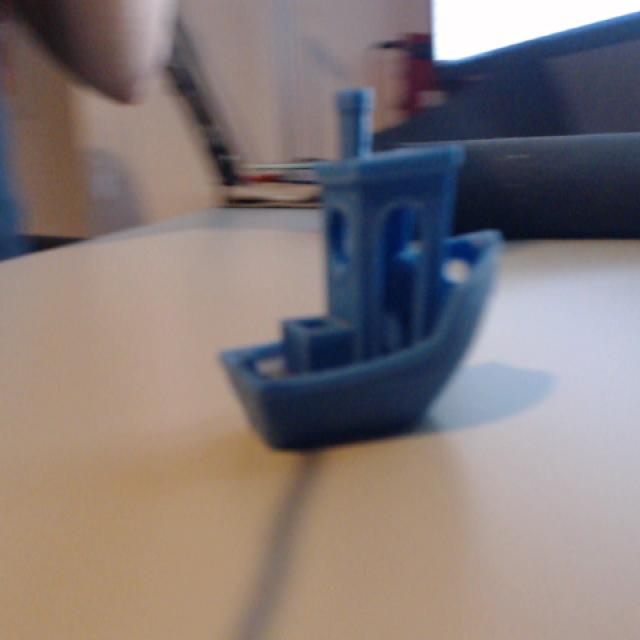benchy: (216, 83, 504, 452)
